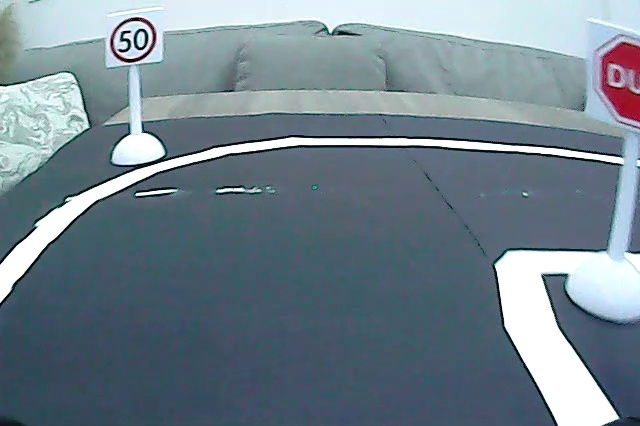speed limit 50: (109, 13, 158, 65)
